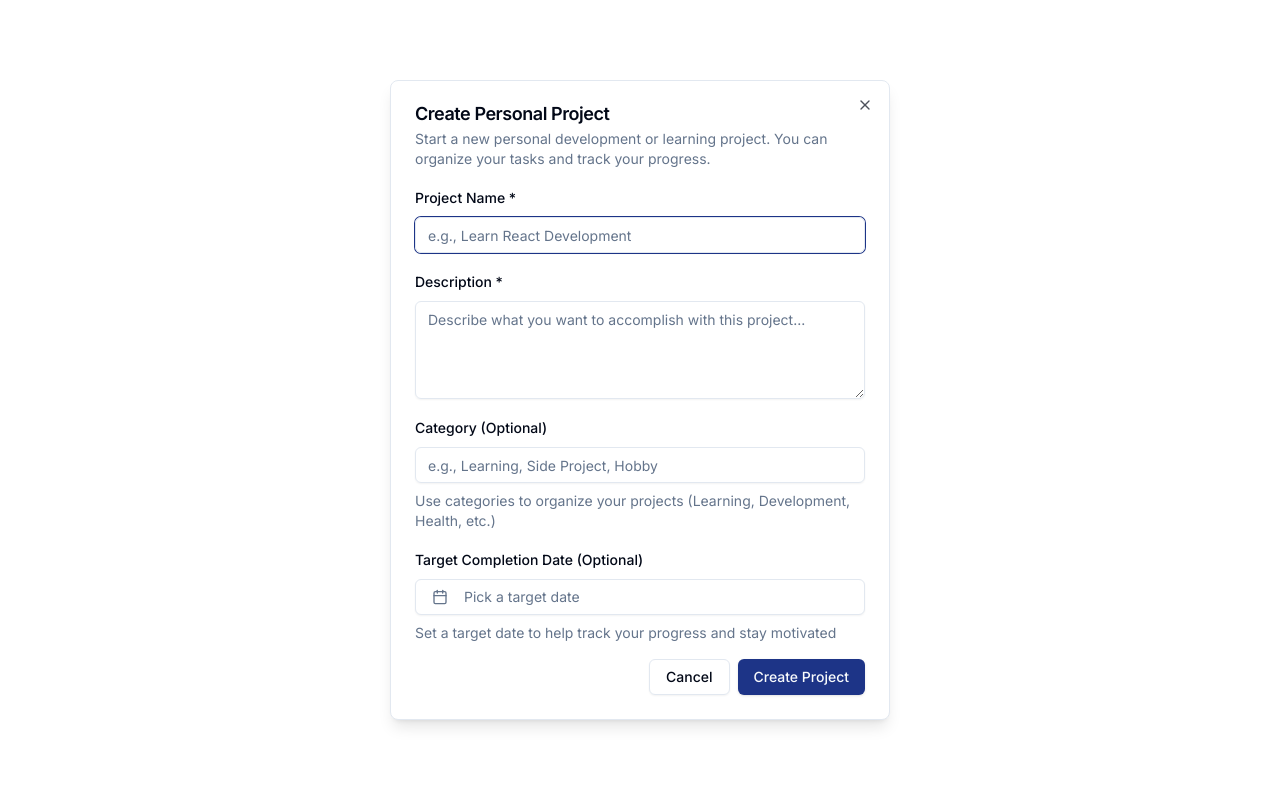
CreateProjectDialog › disables form when loading
Note: Fill in the form
Type "Test Project" into the field labelled "Project Name *". click: [640, 235]
box: [415,217,865,253]
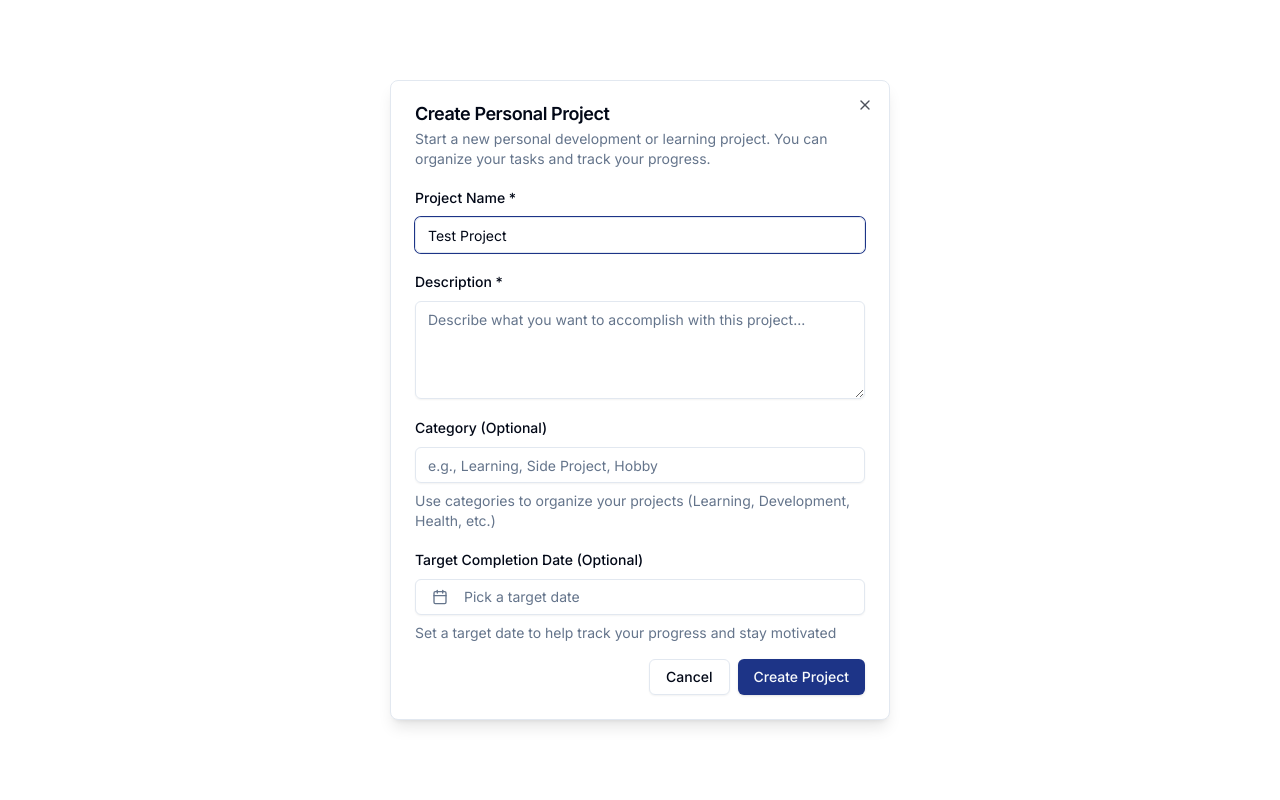
Type "Test Description" into the text box labelled "Description *". click: [640, 350]
box: [415,301,865,399]
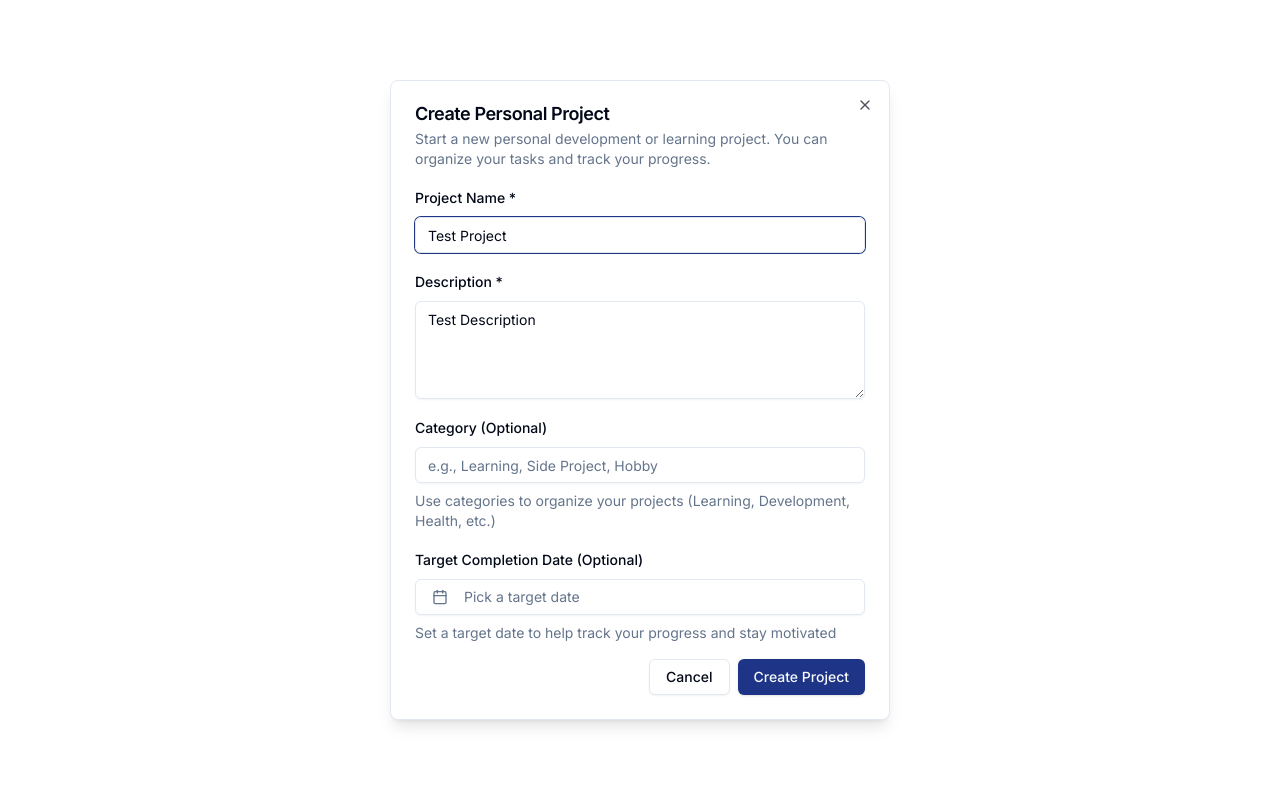
Note: Submit the form
Click the button "Create Project". click: [801, 677]
box: [738,659,865,695]
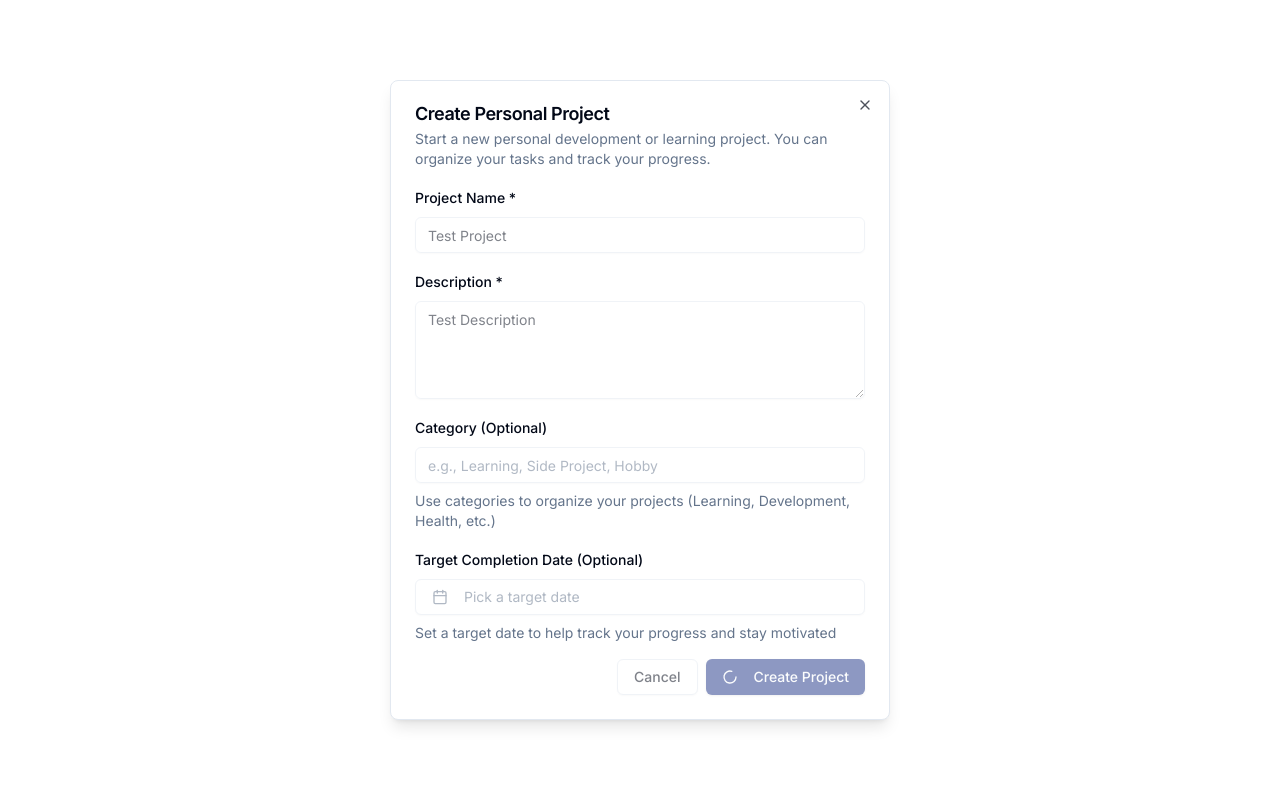
expect the field labelled "Project Name *" is disabled: met, box [415,217,865,253]
expect the text box labelled "Description *" is disabled: met, box [415,301,865,399]
expect the field labelled "Category (Optional)" is disabled: met, box [415,447,865,483]
